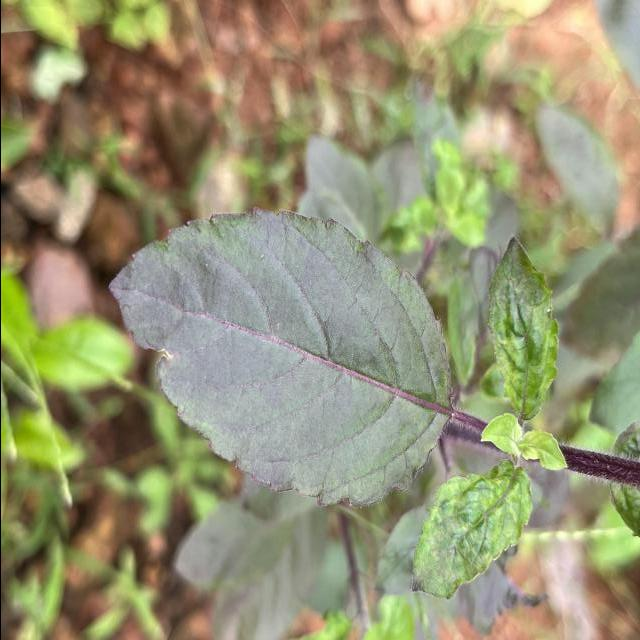Ocimum tenuiflorum: (104, 198, 458, 516)
